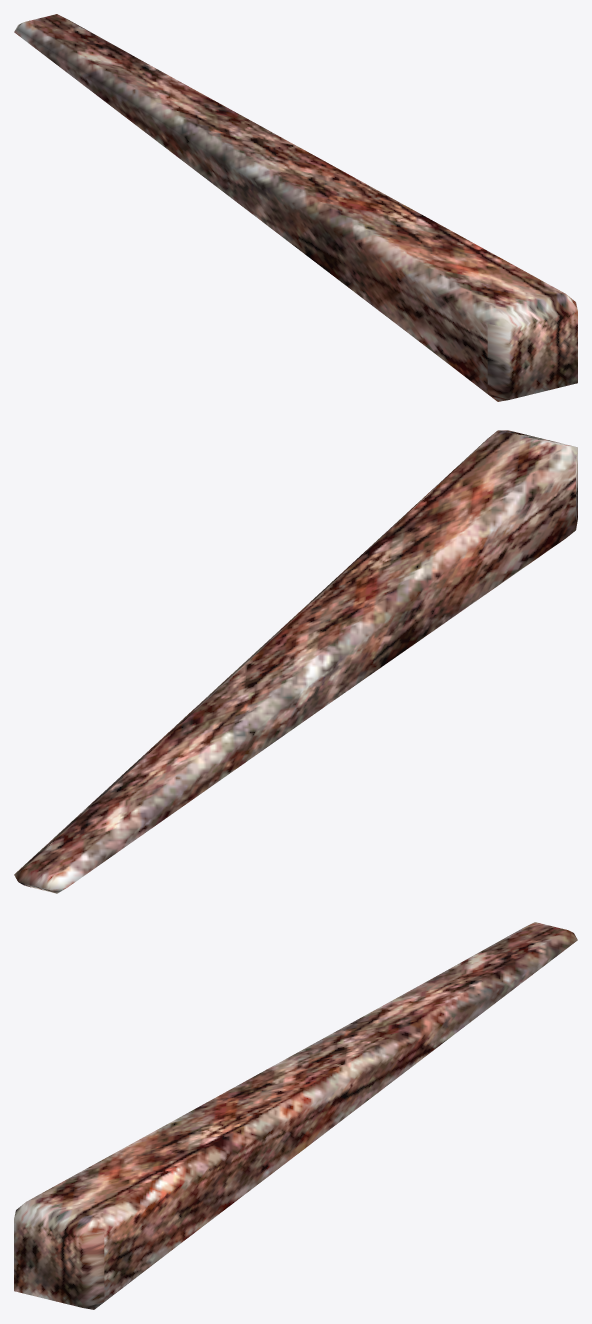
The model's file is wood_blocking_pulley.dae.
3 views of the same model, one above another, from view 1: azimuth 30°, elevation 25°; view 2: azimuth 150°, elevation 25°; view 3: azimuth 330°, elevation 25° (orthographic).
Visible parts, largest first — view 1: pCube1; view 2: pCube1; view 3: pCube1.
Part boxes in pixels (x1=…): pCube1: x1=14, y1=14, x2=577, y2=401; pCube1: x1=14, y1=430, x2=577, y2=893; pCube1: x1=14, y1=922, x2=577, y2=1309.
Size of the model in its own units: 0.0934 by 0.0925 by 0.9315.
